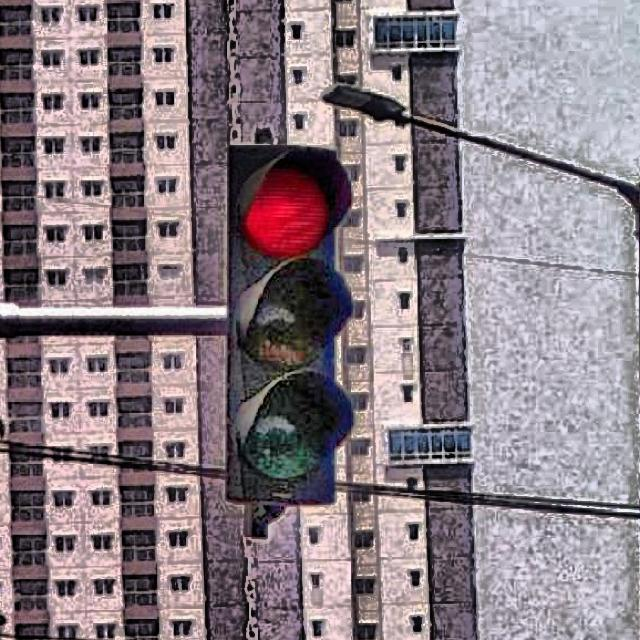red: (235, 143, 355, 506)
